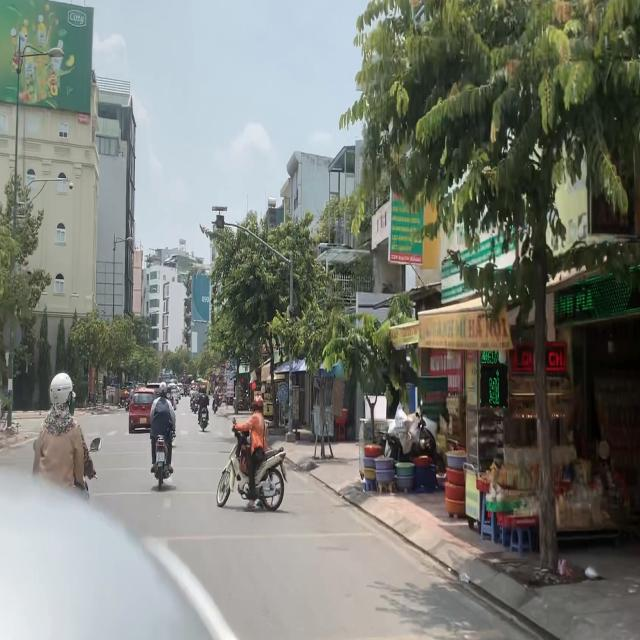Cam re phai: (224, 358, 231, 370)
